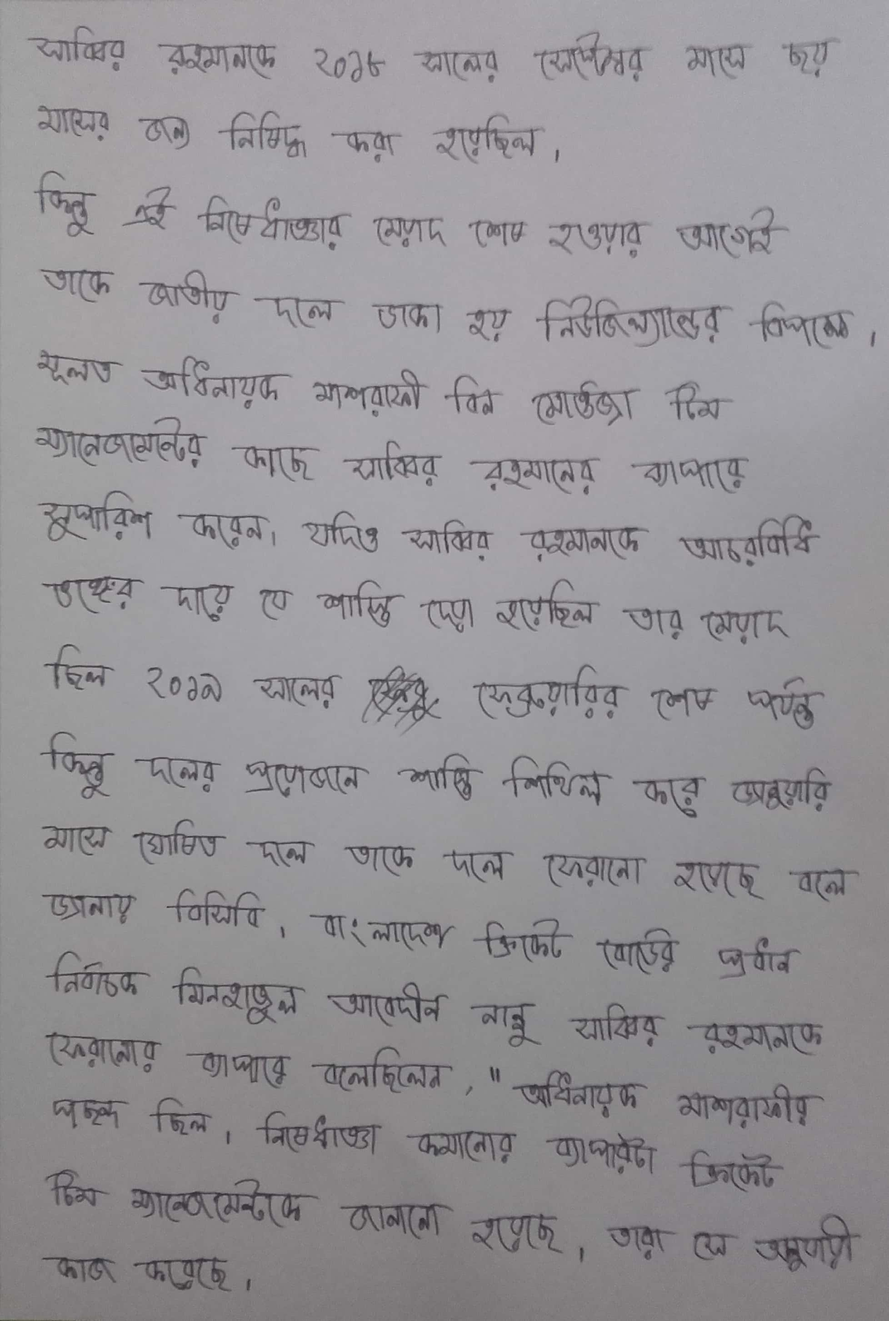line: (42, 1163, 863, 1273), (47, 949, 829, 1059), (45, 1027, 826, 1133), (36, 814, 864, 905), (35, 263, 877, 352), (44, 637, 826, 731), (43, 887, 804, 983), (45, 1096, 786, 1194), (40, 731, 836, 820), (34, 170, 795, 263), (30, 490, 821, 568), (33, 414, 749, 497), (36, 571, 804, 646), (33, 347, 735, 429), (22, 24, 841, 82), (34, 100, 564, 167), (39, 1251, 255, 1295)
